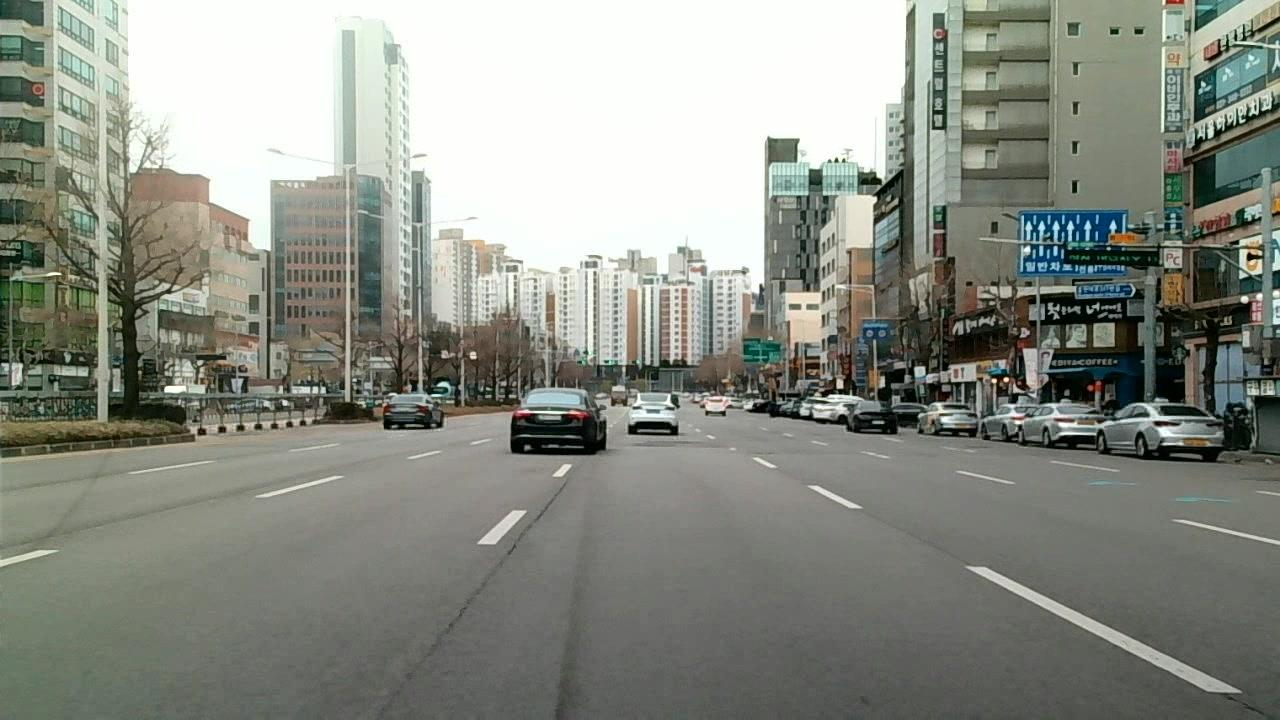vcrack: (367, 609, 466, 720), (468, 514, 540, 606), (862, 509, 962, 564), (101, 501, 189, 527), (2, 524, 97, 548), (1217, 689, 1270, 720), (542, 476, 572, 515)
